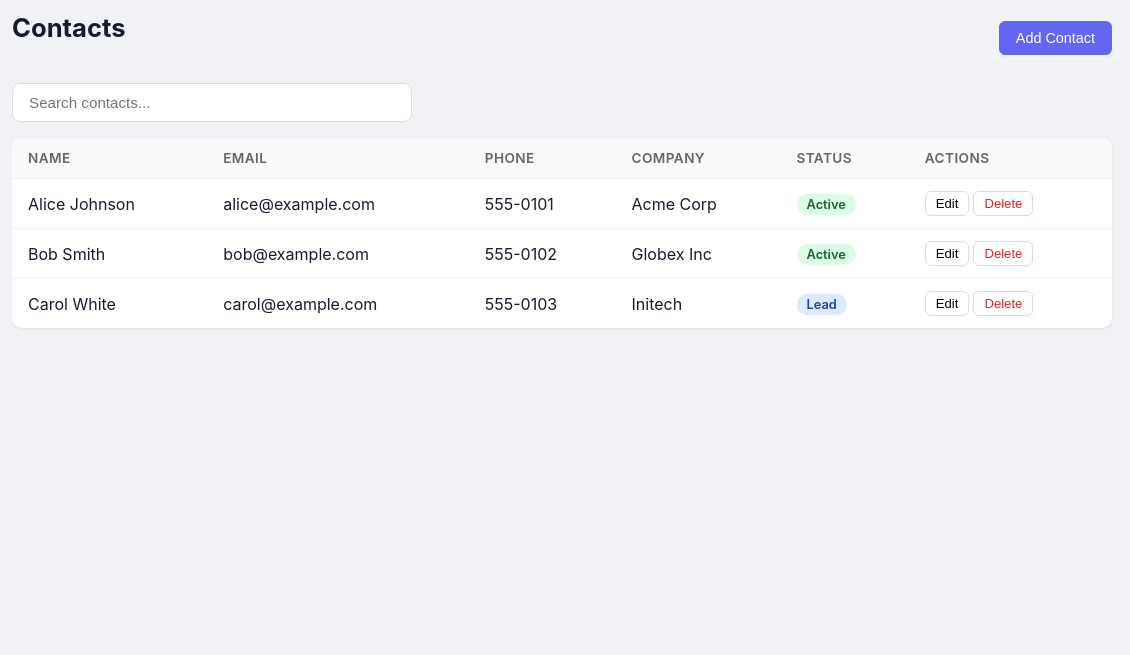
Test: Contacts › adds a new contact via the form
Click the button "Add Contact".
click(1055, 38)  # box [999,20,1112,54]
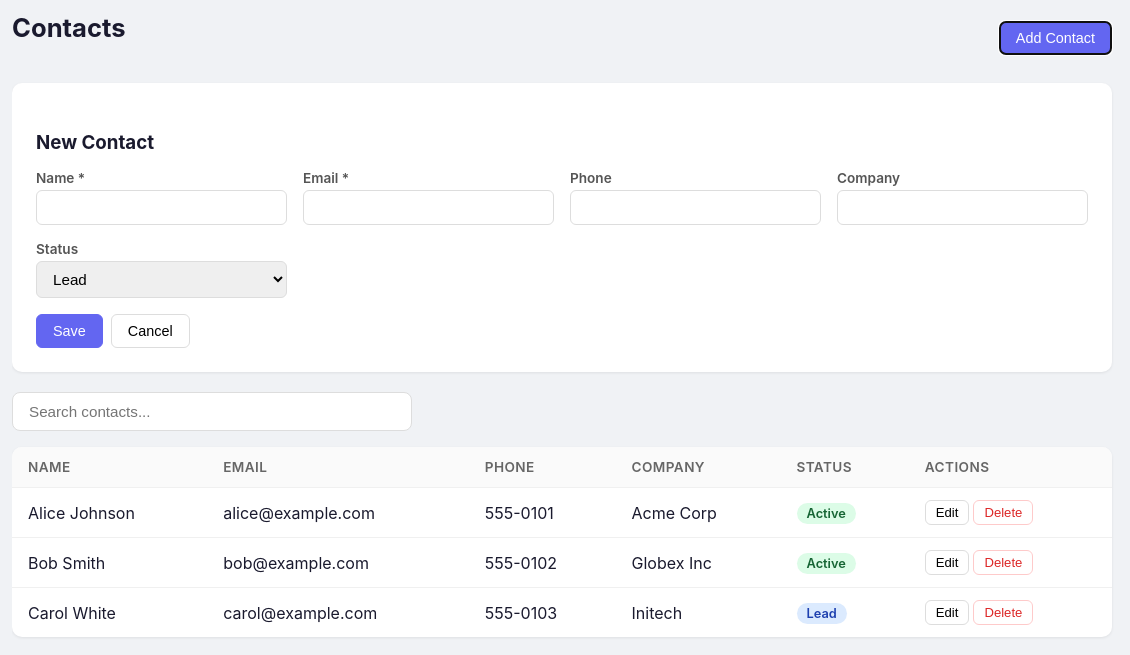
Type "Dave Brown" into the field labelled "Name *".
click(162, 208); type("Dave Brown")  # box [36,190,287,225]
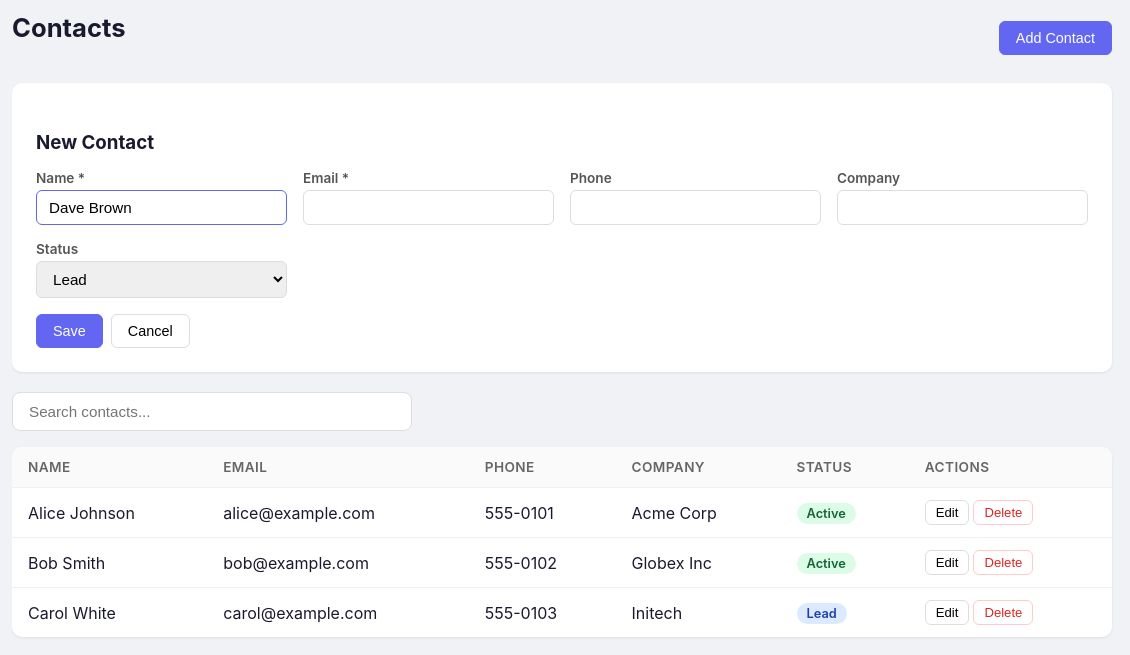
Type "dave@example.com" into the field labelled "Email *".
click(428, 208); type("dave@example.com")  # box [303,190,554,225]
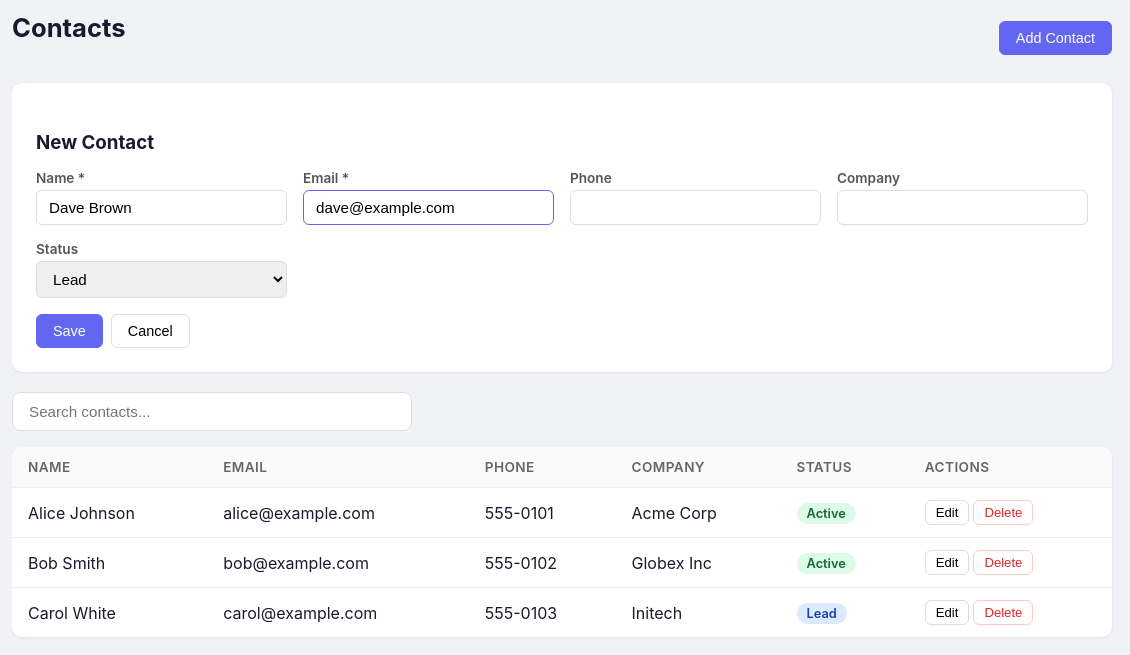
Type "555-0104" into the field labelled "Phone".
click(696, 208); type("555-0104")  # box [570,190,821,225]
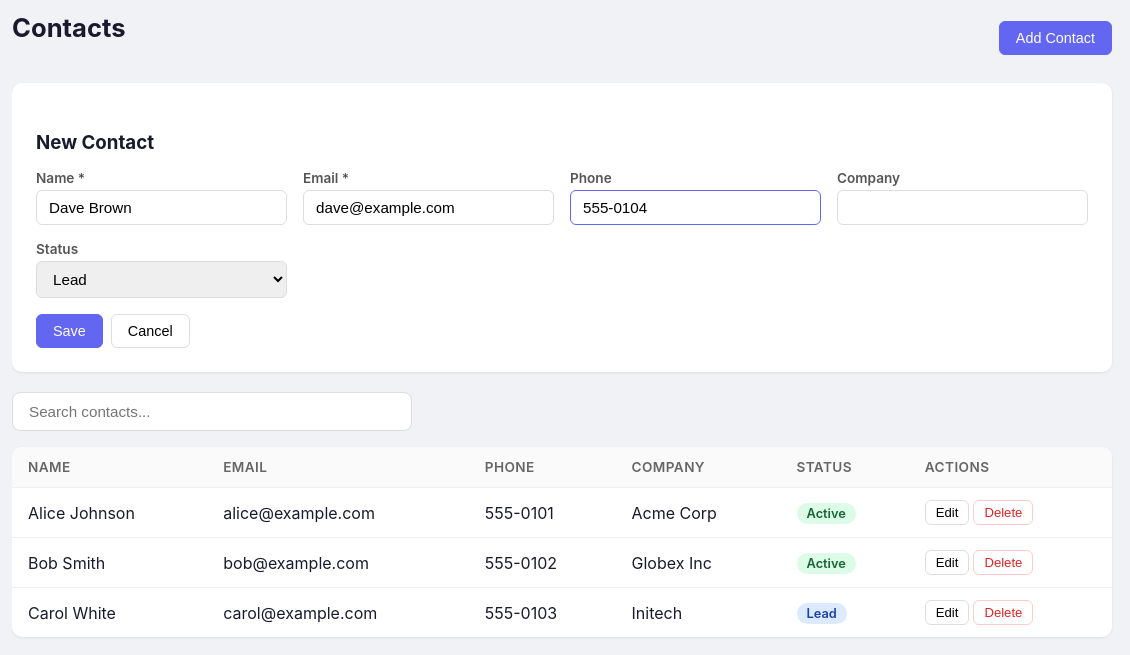
Type "Wayne Enterprises" into the field labelled "Company".
click(962, 208); type("Wayne Enterprises")  # box [837,190,1088,225]
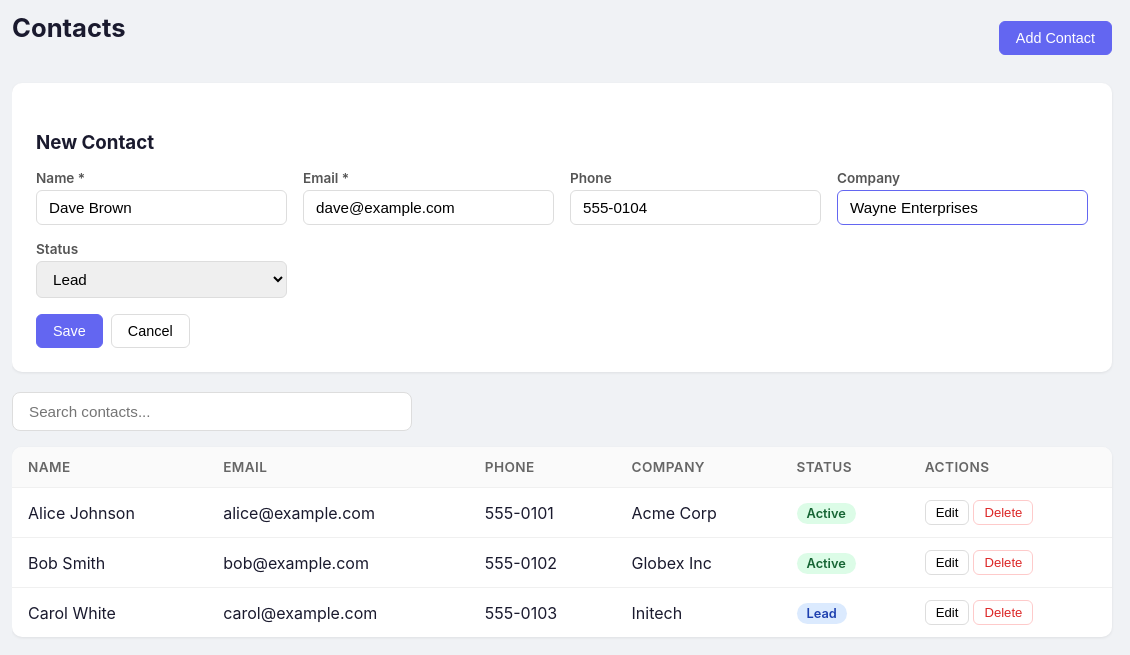
Click the button "Save".
click(69, 331)  # box [36,314,103,348]
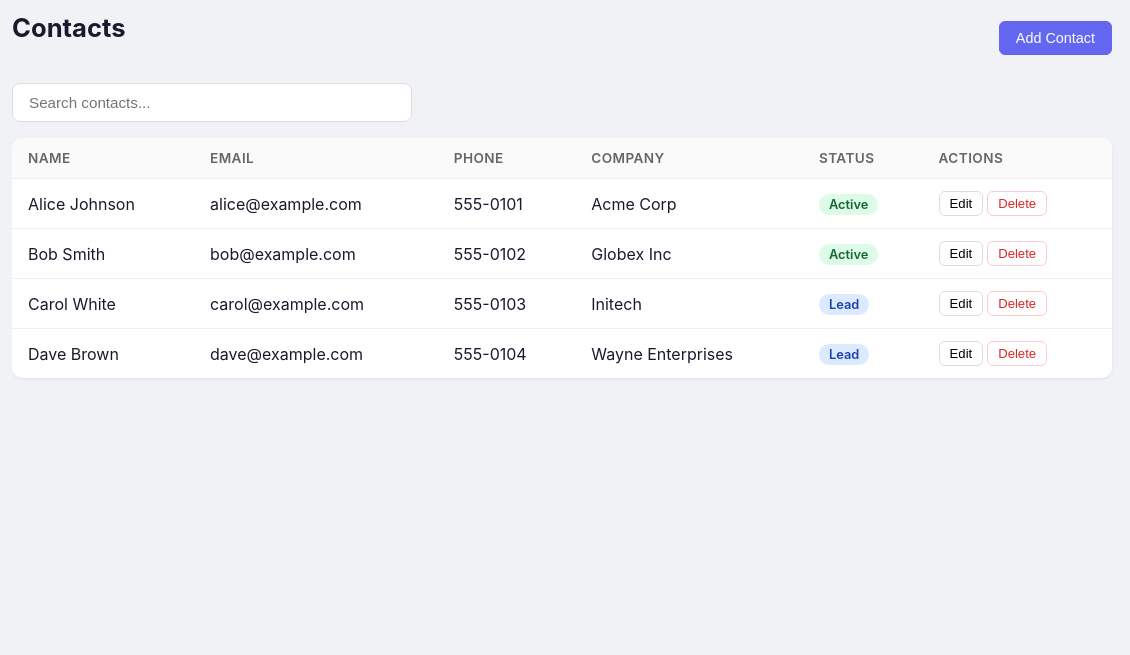
expect the text "Dave Brown" is shown: met, box [12,328,194,378]
expect the text "dave@example.com" is shown: met, box [194,328,438,378]
